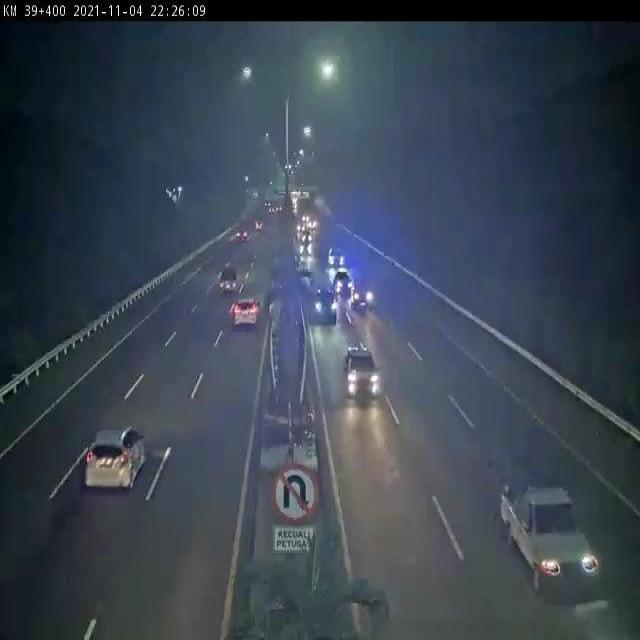car: (498, 469, 604, 600), (78, 414, 150, 506), (339, 340, 388, 404), (229, 289, 262, 339), (313, 282, 339, 334), (348, 269, 379, 312), (216, 253, 246, 295)
